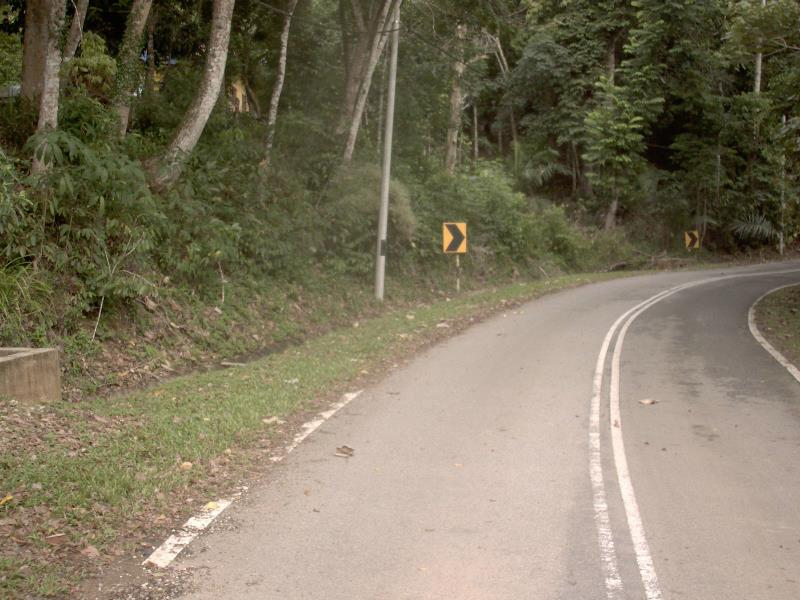traffic_sign: (437, 215, 472, 261)
